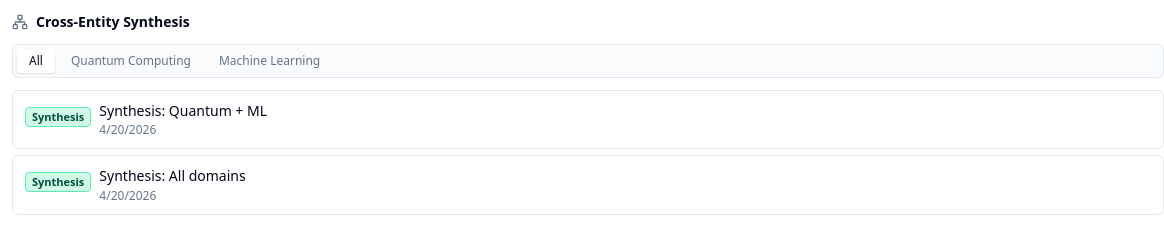
Test: CrossEntitySynthesisTabs › filters to entity's syntheses when entity tab clicked
The image size is (1164, 232).
Step 1. Click the tab "Quantum Computing" → (131, 61), box 59,49 -> 203,73
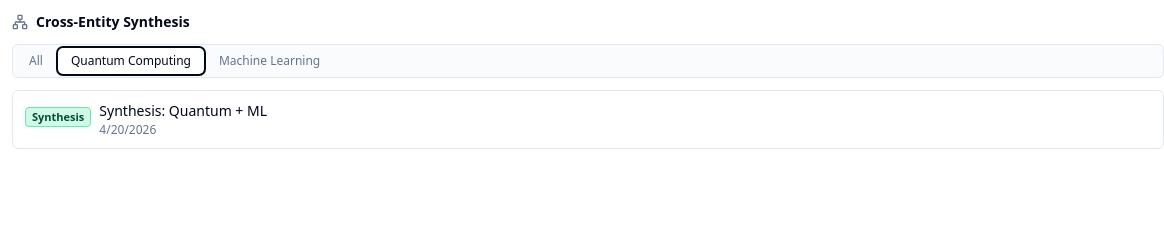
Check: the link "Synthesis: Quantum + ML" is shown, box 99,101 -> 267,120
Check: the link "Synthesis: All domains" is gone
